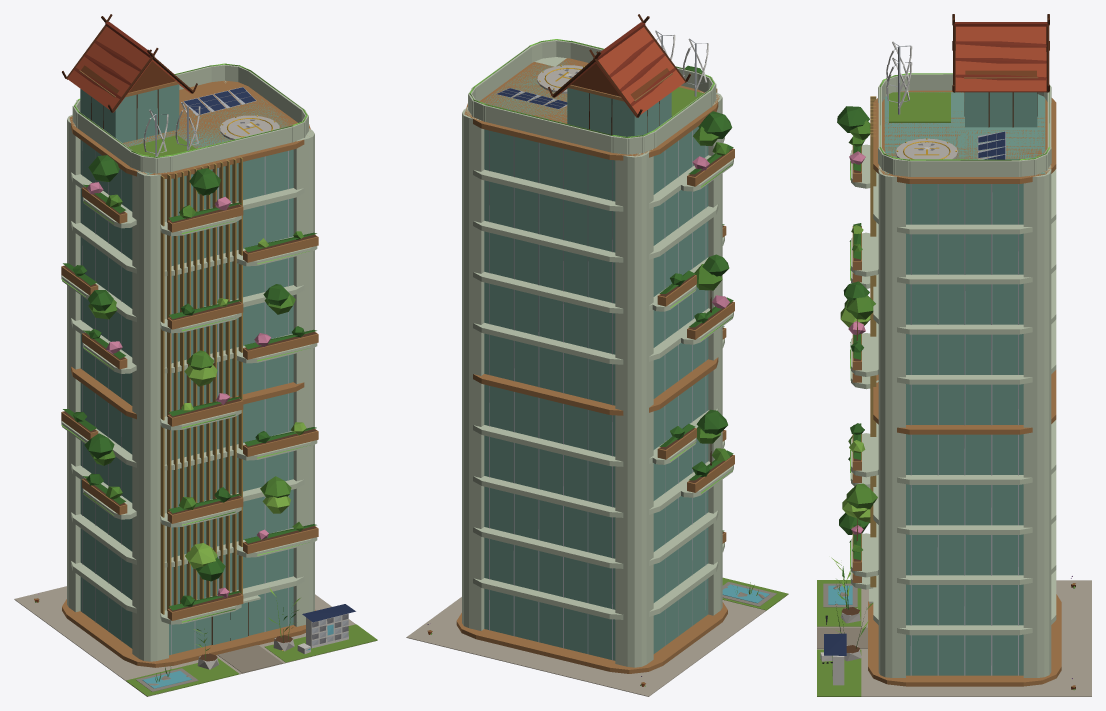
The model's file is home_4.glb.
3 renders of one model, left to right at view 1: azimuth 30°, elevation 25°; view 2: azimuth 150°, elevation 25°; view 3: azimuth 270°, elevation 25°, orthographic. The views are drawn at different scales.
Visible parts, largest first — view 1: body, windows; view 2: body, windows; view 3: body, windows.
Part boxes in pixels (x1=…): body: x1=14, y1=14, x2=377, y2=696; windows: x1=61, y1=63, x2=333, y2=650; body: x1=406, y1=14, x2=788, y2=696; windows: x1=469, y1=39, x2=733, y2=493; body: x1=817, y1=14, x2=1091, y2=696; windows: x1=820, y1=73, x2=1049, y2=656.
Size of the model in its own units: 15.96 by 38.6 by 15.9.
